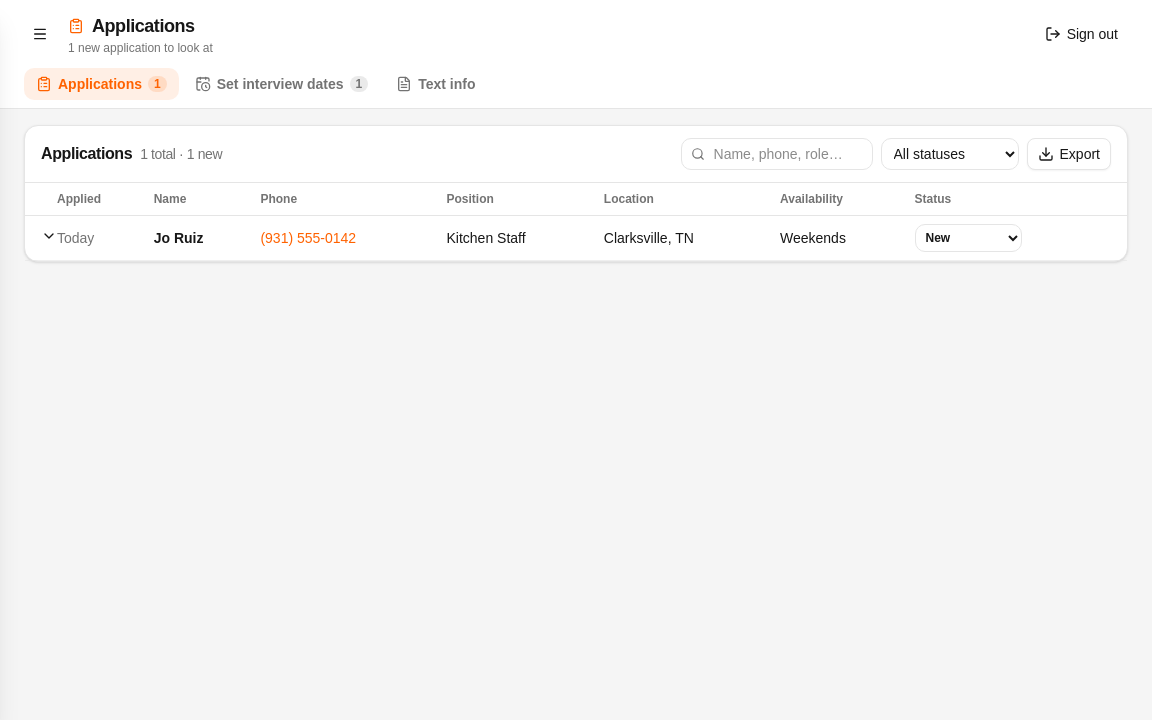
Test case: the interviews section › shows a booked interview with the time spoken the way it is read
Click the button "Set interview dates 1".
click(281, 84)  # box [183,68,380,100]
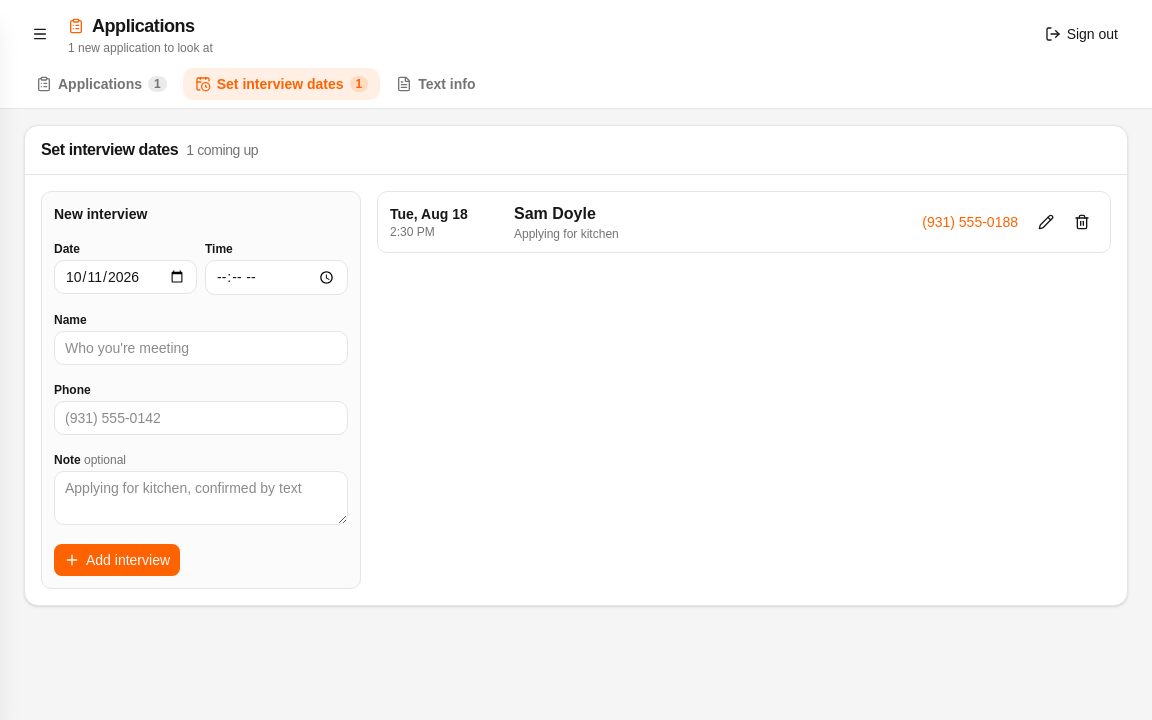
Result: the text "Sam Doyle" is shown at [514,205,596,222]
Result: the text "2:30 PM" is shown at [390,225,435,239]
